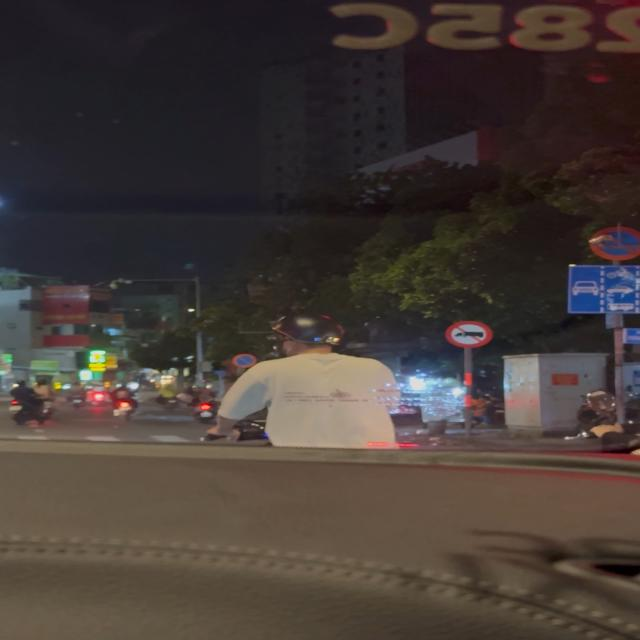Bien bao cam xe so-mi ro-mooc: (440, 318, 494, 349)
